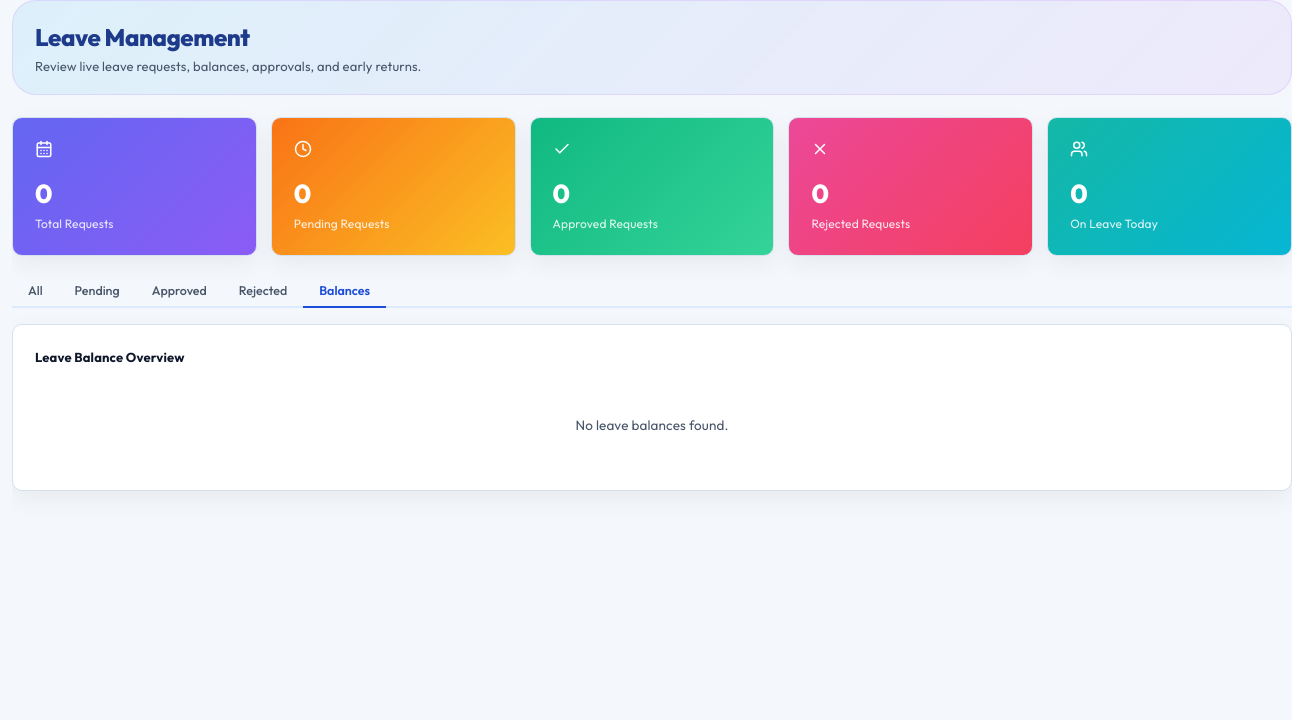
Test: Leave › does not expose a raw reviewer UUID when no readable approver name is returned
This screenshot has width=1292, height=720.
Click the button "All": click(35, 291) [12, 274, 59, 308]
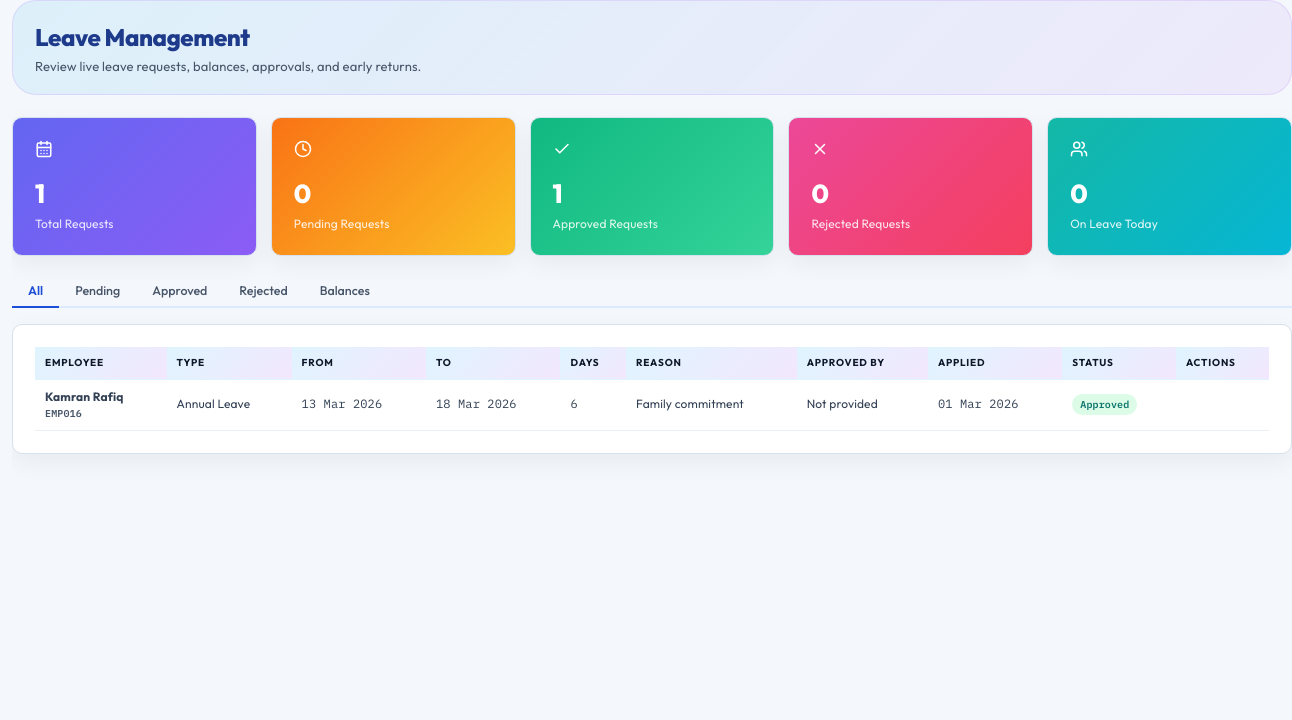
expect the text "Kamran Rafiq" is shown: met, box [45, 389, 124, 404]
expect the text "Not provided" is shown: met, box [797, 379, 928, 430]
